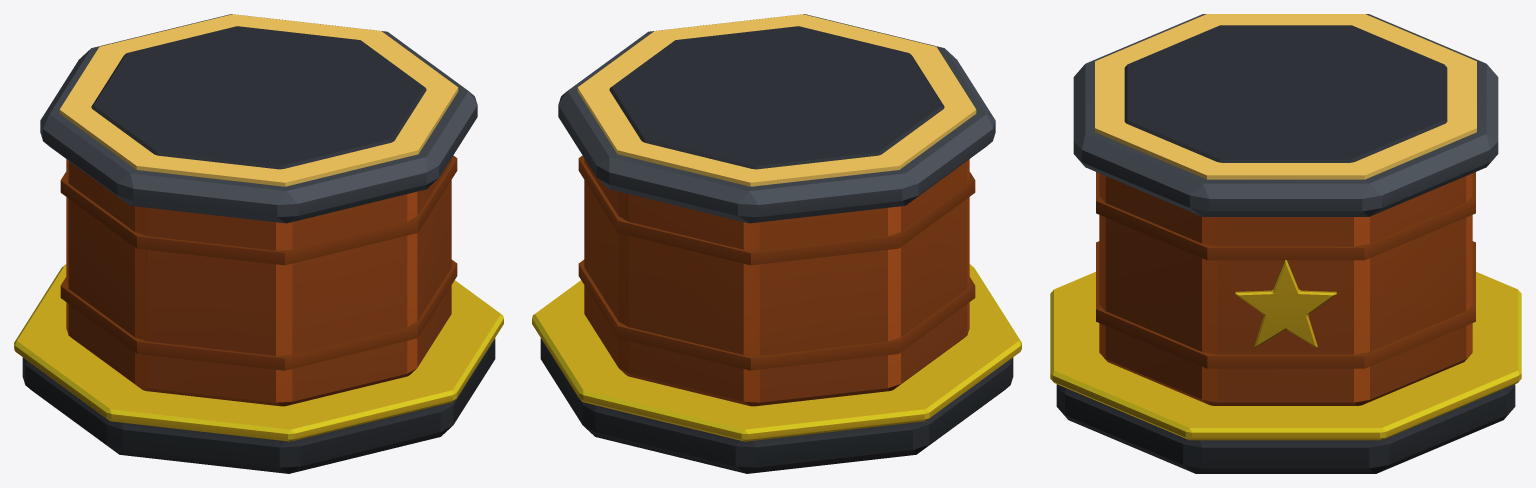
The model's file is stand.glb.
The picture shows the model from 3 angles, left to right: view 1: azimuth 30°, elevation 25°; view 2: azimuth 150°, elevation 25°; view 3: azimuth 270°, elevation 25°; orthographic projection. The views are drawn at different scales.
Visible parts, largest first — view 1: Body, Top_glow; view 2: Body, Top_glow; view 3: Body, Top_glow.
Boxes of the visible parts, x1,y1,x2,y2 form: Body: (14,14,503,473); Top_glow: (59,14,458,186); Body: (532,14,1021,473); Top_glow: (577,14,976,186); Body: (1050,14,1521,473); Top_glow: (1095,14,1476,179).
Size of the model in its own units: 1.03 by 0.696 by 1.03.
